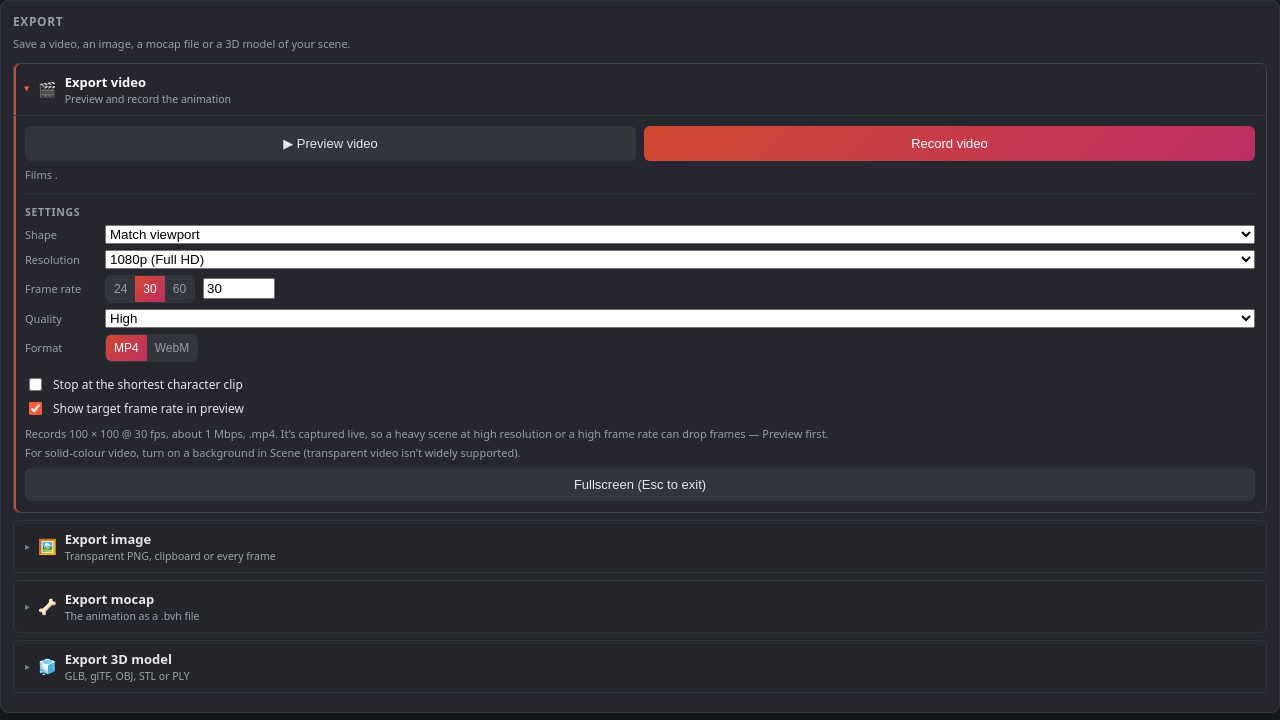
Export panel — copy images › suggests a PNG when the clipboard API is unavailable in an embedded page
The width and height of the screenshot is (1280, 720).
Click the button "▸ 🖼️ Export image Transparent PNG, clipboard or every frame" at (108, 538), box [14,520,1266,572]
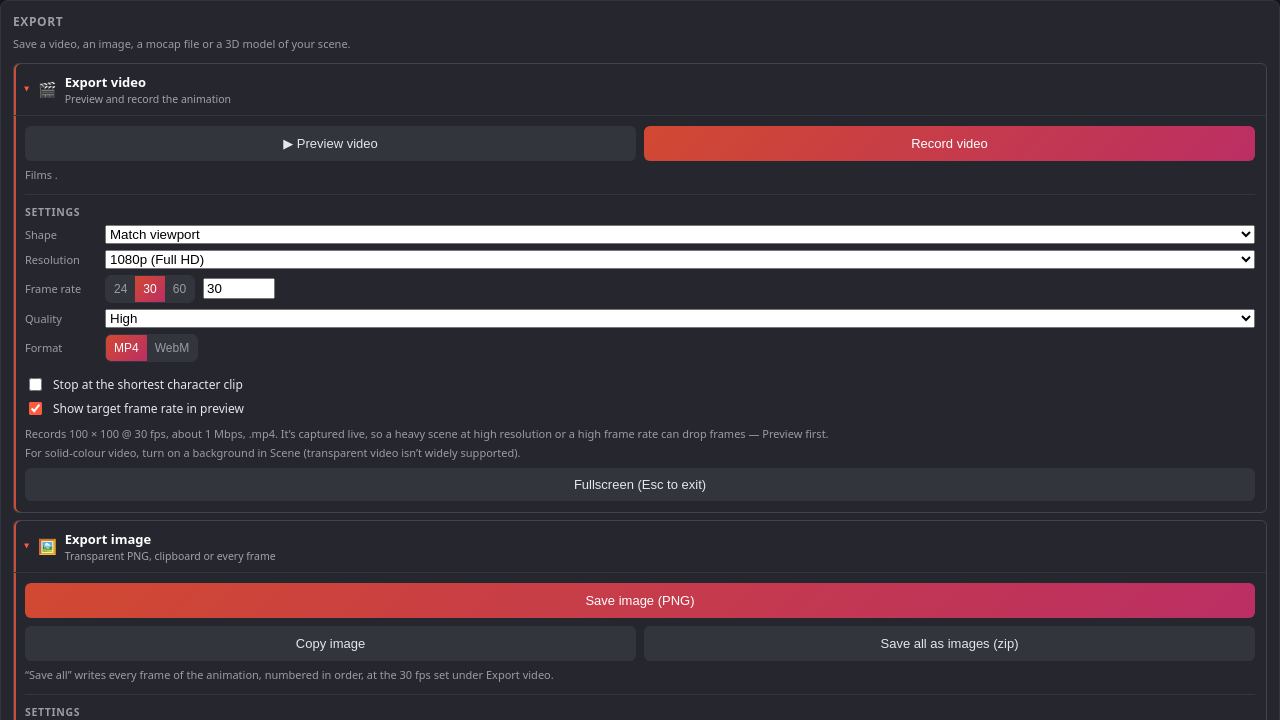
Click the button "Copy image" at (330, 643), box [25,626,636,660]
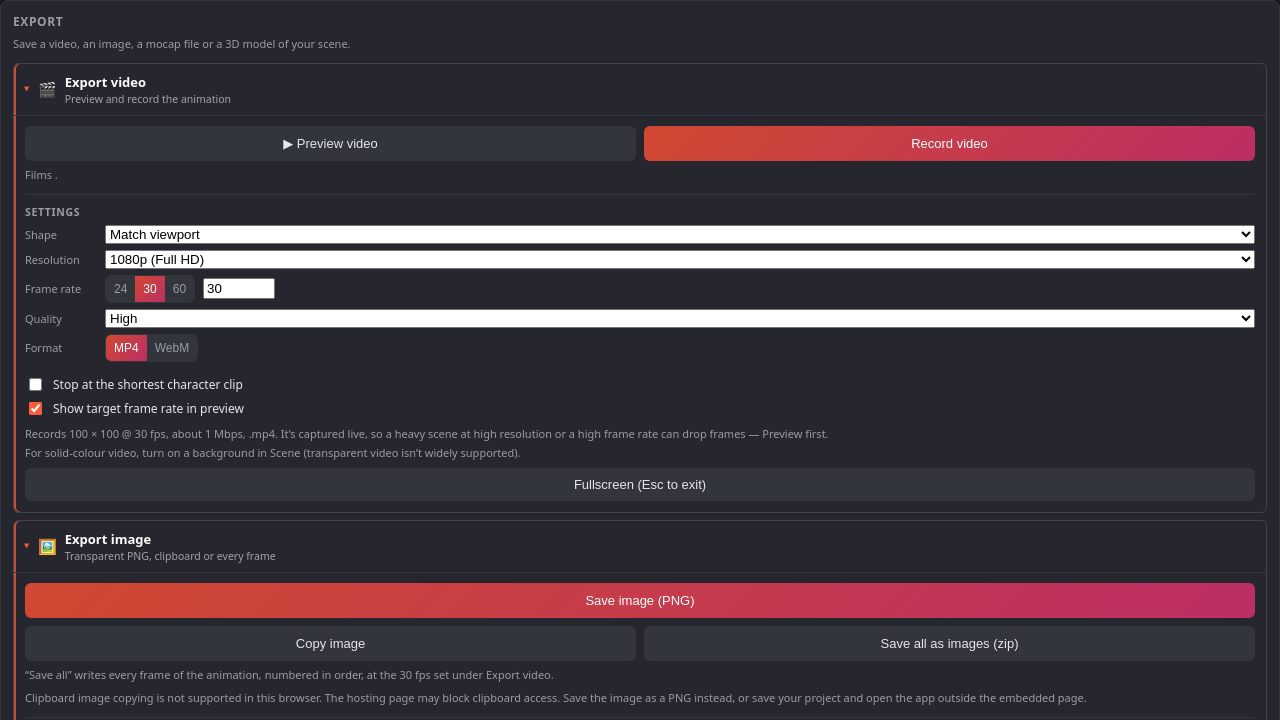
Now the text "hosting page may block clipboard access" is shown, box [25,690,1087,704]
